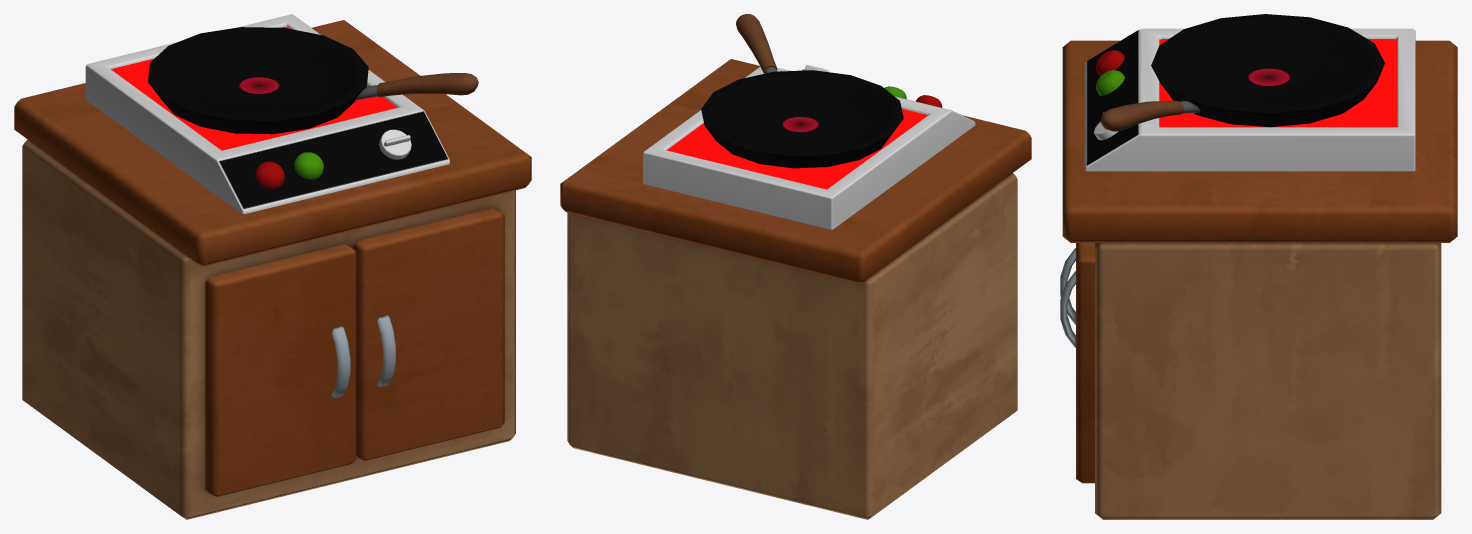
Rendered from StoveCounter_Visual.glb.
3 renders of one model, left to right at view 1: azimuth 30°, elevation 25°; view 2: azimuth 150°, elevation 25°; view 3: azimuth 270°, elevation 25°, orthographic. The views are drawn at different scales.
Parts seen in each view (by area): view 1: Counter, Stove, Frying_Pan, StoveOnVisual; view 2: Counter, Frying_Pan, Stove, StoveOnVisual; view 3: Counter, Stove, Frying_Pan, StoveOnVisual.
Boxes of the visible parts, x1,y1,x2,y2 form: Counter: [14, 20, 531, 519]; Stove: [85, 14, 449, 213]; Frying_Pan: [148, 27, 478, 134]; StoveOnVisual: [111, 26, 397, 150]; Counter: [560, 59, 1031, 519]; Frying_Pan: [701, 14, 903, 168]; Stove: [643, 65, 975, 229]; StoveOnVisual: [666, 109, 927, 189]; Counter: [1060, 40, 1457, 519]; Stove: [1084, 28, 1415, 171]; Frying_Pan: [1100, 14, 1384, 131]; StoveOnVisual: [1159, 39, 1396, 127].
Bounding box in the file's own units: 1.48 × 1.57 × 1.45.
Materials: 4 (3 with a texture image).
